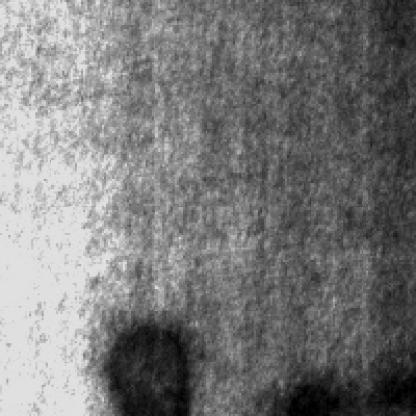patches: (111, 331, 202, 416), (279, 366, 416, 416)
